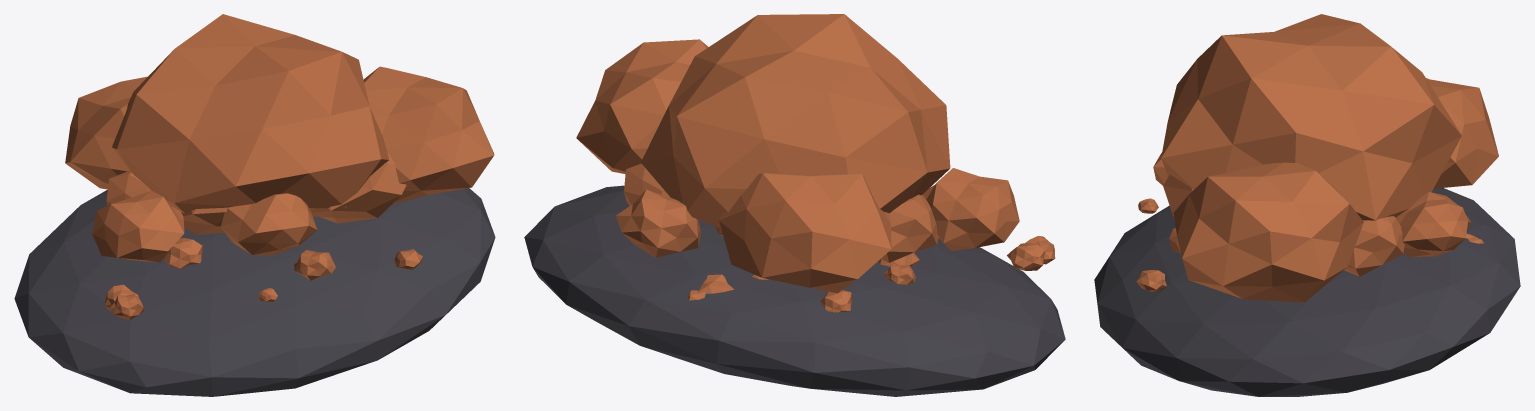
The model's file is bauxite.glb.
3 views of the same model, side by side, from view 1: azimuth 30°, elevation 25°; view 2: azimuth 150°, elevation 25°; view 3: azimuth 270°, elevation 25° (orthographic). The views are drawn at different scales.
Parts seen in each view (by area): view 1: Bauxite; view 2: Bauxite; view 3: Bauxite.
Part boxes in pixels (bbox=[...]): Bauxite: bbox=[14, 14, 495, 396]; Bauxite: bbox=[524, 14, 1065, 396]; Bauxite: bbox=[1094, 14, 1520, 396].
Size of the model in its own units: 3.96 by 2.41 by 3.03.
